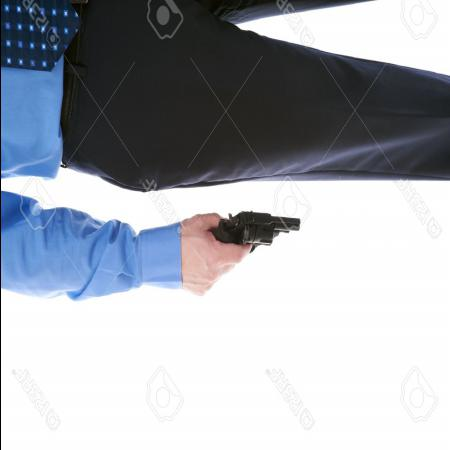Pistol: (199, 206, 299, 268)
